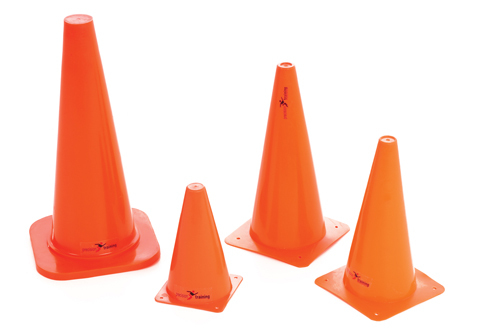cones: (29, 11, 160, 282), (315, 131, 449, 322), (231, 61, 351, 267), (160, 182, 241, 311)
